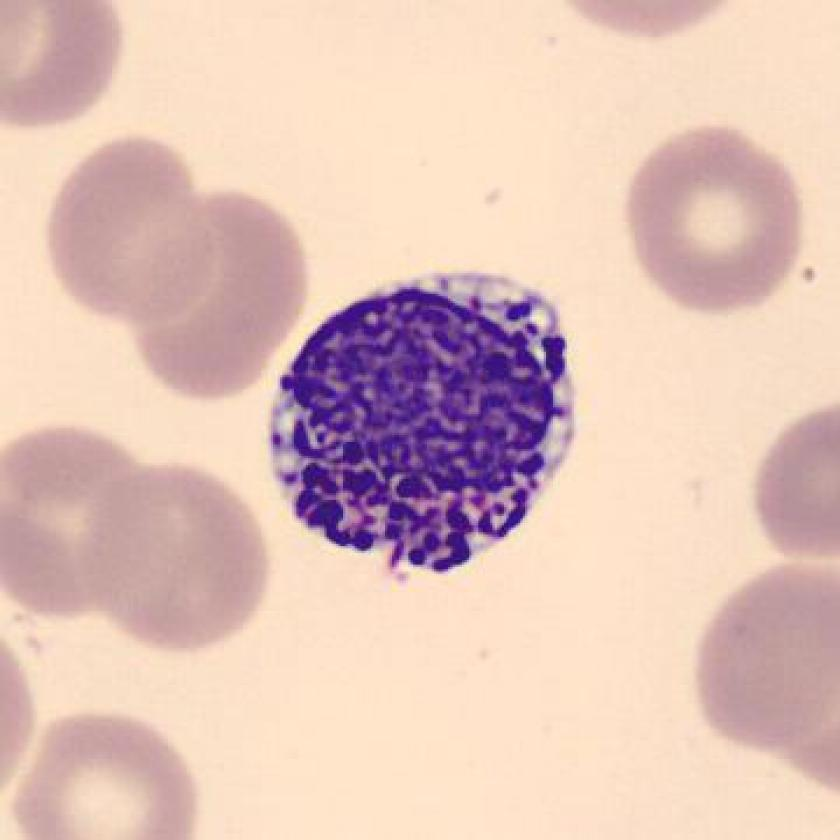basophil: (265, 263, 591, 584)
